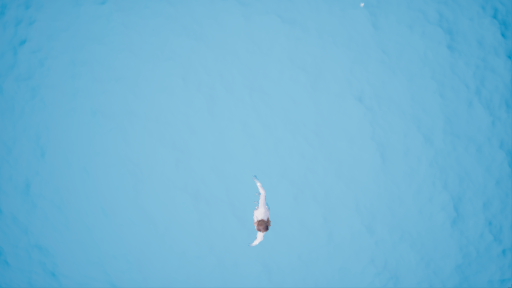person: (240, 175, 278, 248)
